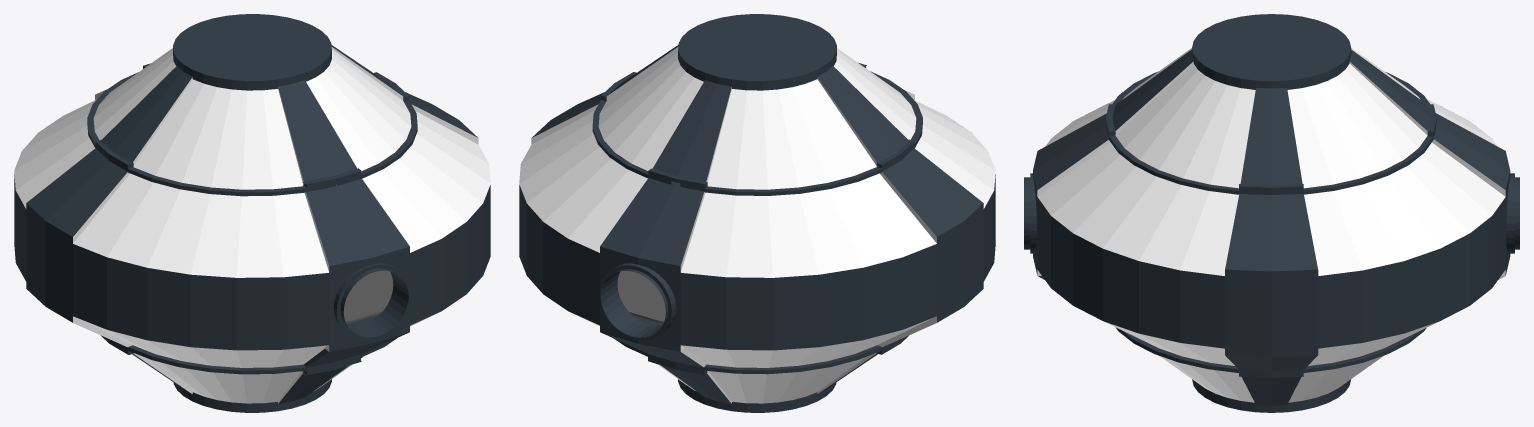
The model's file is FacilityfTst2.glb.
3 views of the same model, side by side, from view 1: azimuth 30°, elevation 25°; view 2: azimuth 150°, elevation 25°; view 3: azimuth 270°, elevation 25° (orthographic).
Visible parts, largest first — view 1: Cylinder.001, Walls.001, Cylinder, Cylinder.003, Door Frame 2 Inner., Door Frame 2 Outer; view 2: Cylinder.001, Walls.001, Cylinder, Cylinder.003, Door Frame 1 Inner, Door Frame 1 OUter; view 3: Cylinder.001, Walls.001, Cylinder, Door Frame 1 OUter, Door Frame 2 Inner., Door Frame 2 Outer.
Part boxes in pixels (<box>): Cylinder.001: <box>14,14,490,277</box>; Walls.001: <box>14,174,490,350</box>; Cylinder: <box>26,282,439,412</box>; Cylinder.003: <box>343,270,393,323</box>; Door Frame 2 Inner.: <box>340,268,408,337</box>; Door Frame 2 Outer: <box>333,263,409,338</box>; Cylinder.001: <box>519,14,995,277</box>; Walls.001: <box>519,174,995,350</box>; Cylinder: <box>570,282,983,412</box>; Cylinder.003: <box>617,271,665,323</box>; Door Frame 1 Inner: <box>600,269,668,337</box>; Door Frame 1 OUter: <box>599,263,676,339</box>; Cylinder.001: <box>1033,14,1510,277</box>; Walls.001: <box>1033,181,1509,350</box>; Cylinder: <box>1033,253,1510,412</box>; Door Frame 1 OUter: <box>1506,173,1514,253</box>; Door Frame 2 Inner.: <box>1024,177,1030,249</box>; Door Frame 2 Outer: <box>1030,173,1036,253</box>.
Bounding box in the file's own units: 12 × 9.2 × 12.46.
